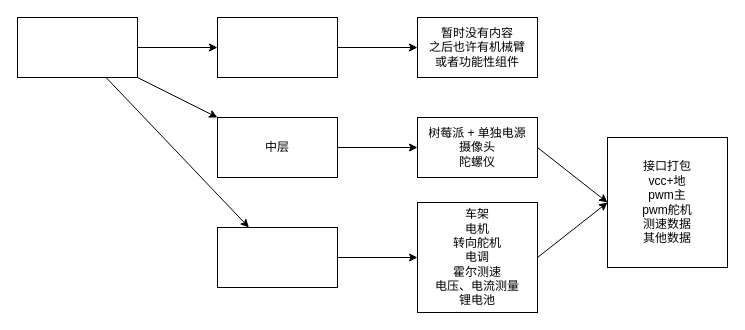
Image size: 745x330. Some labels were removed from this diagram. Each missing label, with the box of its shape:
分层: (16, 16, 138, 78)
底层: (216, 226, 338, 288)
顶层: (216, 16, 338, 78)
